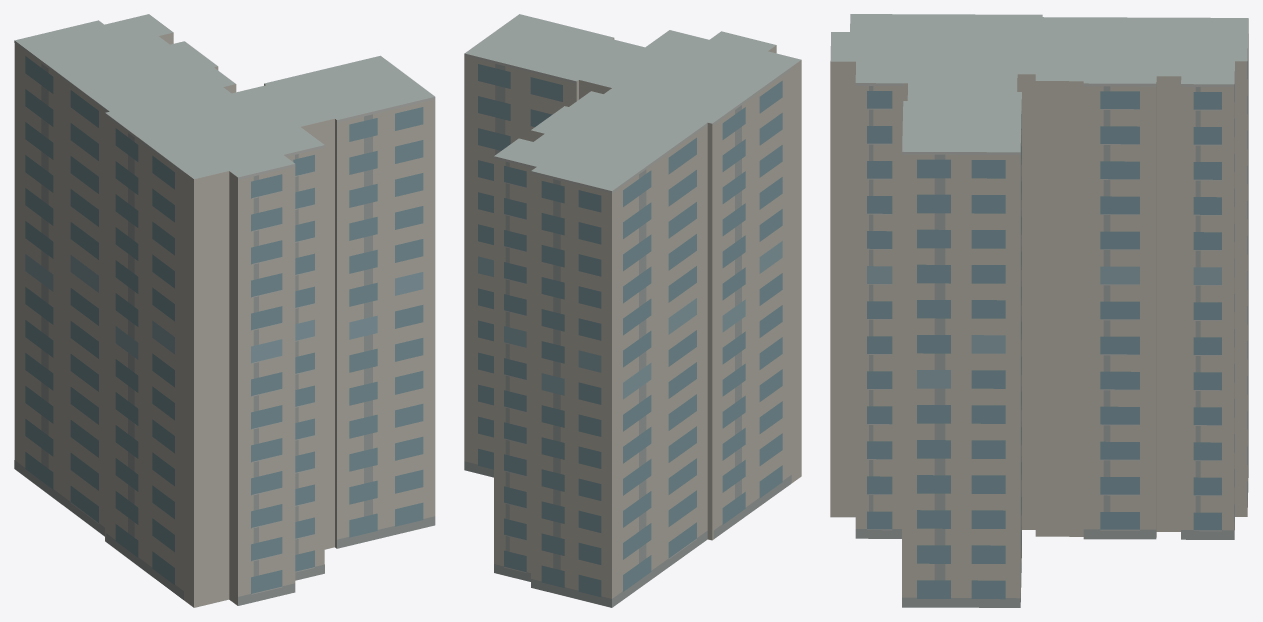
File: survey-upis-32984921.glb
The picture shows the model from 3 angles, left to right: view 1: azimuth 30°, elevation 25°; view 2: azimuth 150°, elevation 25°; view 3: azimuth 270°, elevation 25°; orthographic projection. The views are drawn at different scales.
Parts seen in each view (by area): view 1: survey-upis-32984921.tmp; view 2: survey-upis-32984921.tmp; view 3: survey-upis-32984921.tmp.
Boxes of the visible parts, bbox=[...] form: survey-upis-32984921.tmp: bbox=[14, 14, 435, 607]; survey-upis-32984921.tmp: bbox=[464, 14, 801, 607]; survey-upis-32984921.tmp: bbox=[830, 14, 1248, 607].
Size of the model in its own units: 25.81 by 39.65 by 32.98.
